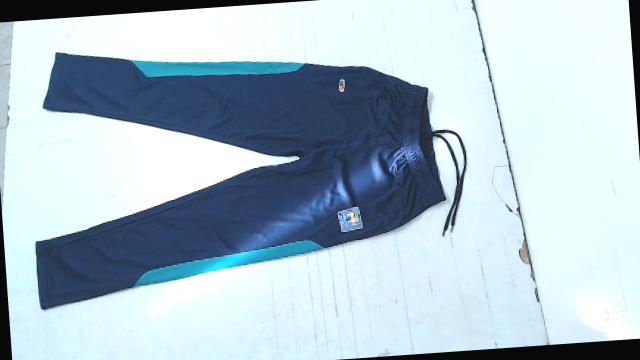new-garment: (36, 52, 444, 308)
